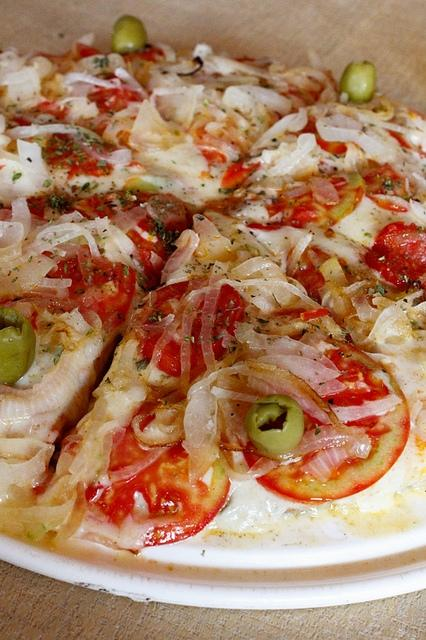onion: (200, 278, 324, 372), (188, 364, 343, 431), (233, 322, 347, 397), (1, 342, 85, 422), (276, 390, 402, 425), (182, 384, 224, 486), (298, 426, 372, 483), (0, 438, 55, 508), (68, 390, 108, 486), (180, 278, 210, 396), (316, 112, 386, 156), (128, 100, 186, 152), (230, 285, 314, 319), (249, 105, 309, 150), (149, 84, 205, 130), (142, 319, 178, 382), (23, 210, 84, 247), (217, 448, 282, 482), (268, 132, 316, 176), (364, 302, 412, 344), (11, 123, 106, 143), (292, 426, 348, 456), (162, 230, 200, 274), (14, 254, 59, 291), (286, 230, 314, 277), (66, 69, 122, 91), (358, 112, 412, 134), (319, 256, 352, 291), (36, 222, 82, 246), (104, 391, 132, 427), (1, 220, 24, 262), (210, 386, 261, 404), (350, 296, 382, 324), (223, 85, 254, 112), (11, 197, 32, 236), (148, 42, 177, 64), (6, 70, 31, 85), (194, 245, 205, 256)
tomato: (243, 338, 411, 503), (84, 401, 231, 547), (141, 278, 244, 376), (246, 176, 364, 232), (46, 256, 136, 328), (361, 220, 426, 292), (46, 134, 114, 184), (127, 216, 173, 289), (70, 190, 160, 220), (284, 116, 348, 154), (358, 161, 405, 208), (86, 84, 143, 114), (221, 162, 261, 190), (292, 263, 326, 292), (122, 45, 165, 63), (278, 88, 320, 105), (31, 102, 66, 120), (26, 195, 52, 218), (385, 129, 412, 149), (76, 42, 101, 58), (201, 150, 227, 162), (234, 55, 255, 63)
